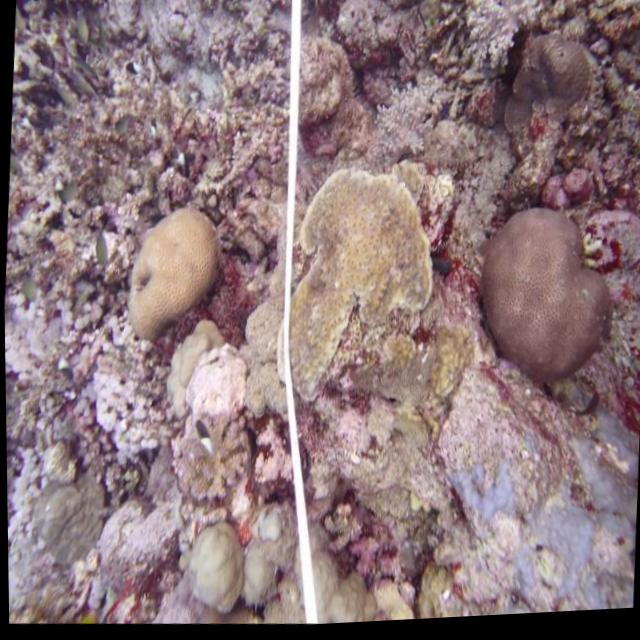Bleached Coral: (3, 275, 169, 493), (360, 79, 478, 173), (446, 0, 535, 92), (175, 356, 260, 449)
